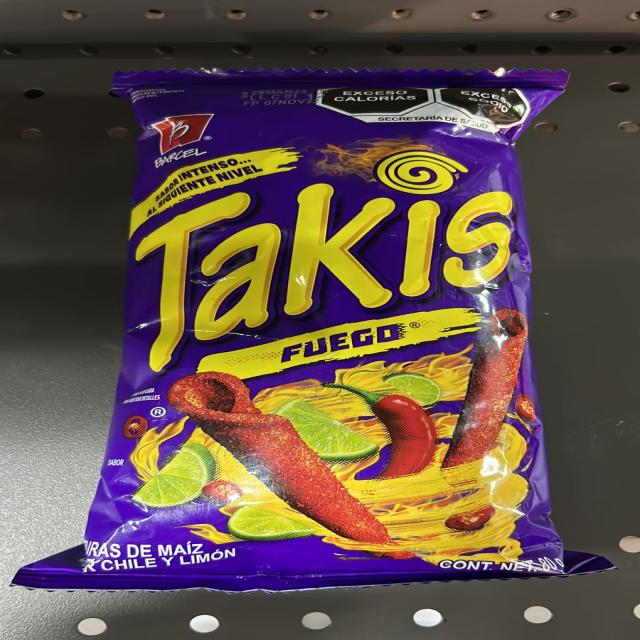takisFuego: (137, 66, 537, 587)
